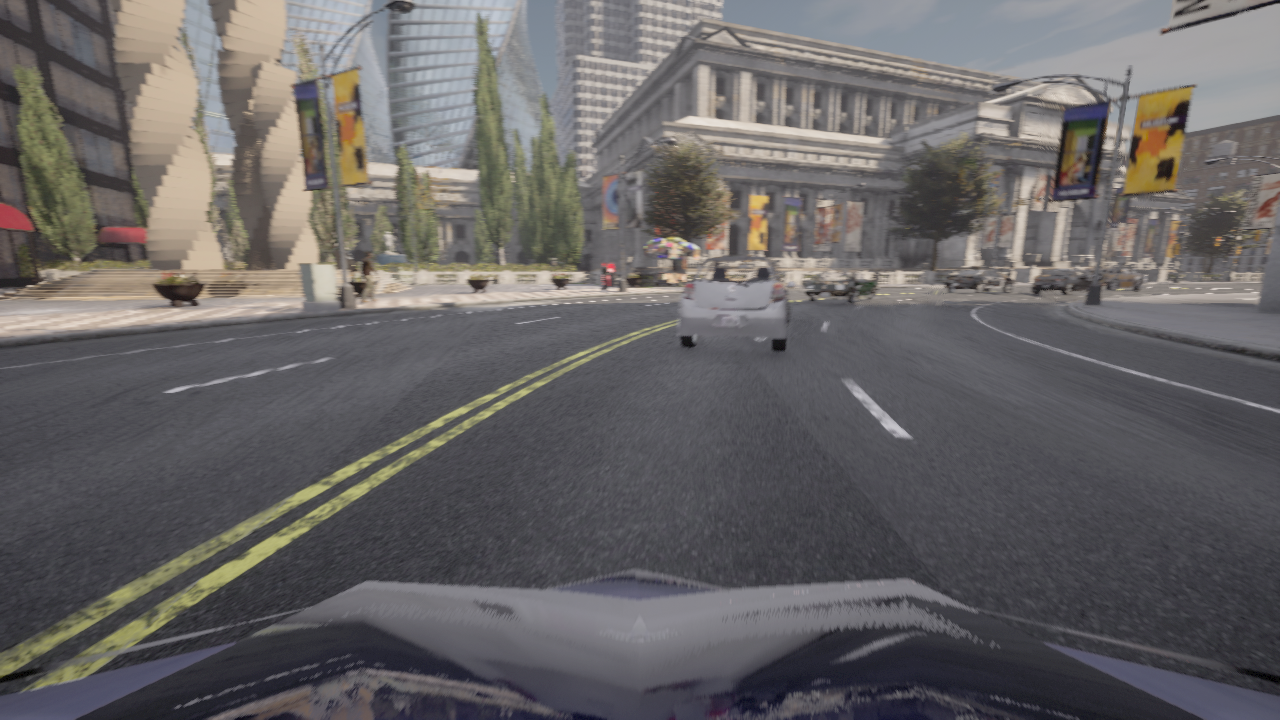cyclist: (0, 569, 1279, 719), (679, 255, 795, 351), (803, 272, 877, 303), (1032, 269, 1102, 295), (944, 267, 1013, 293), (1084, 265, 1145, 290)
pedestrian: (361, 251, 379, 302), (600, 261, 610, 291)
